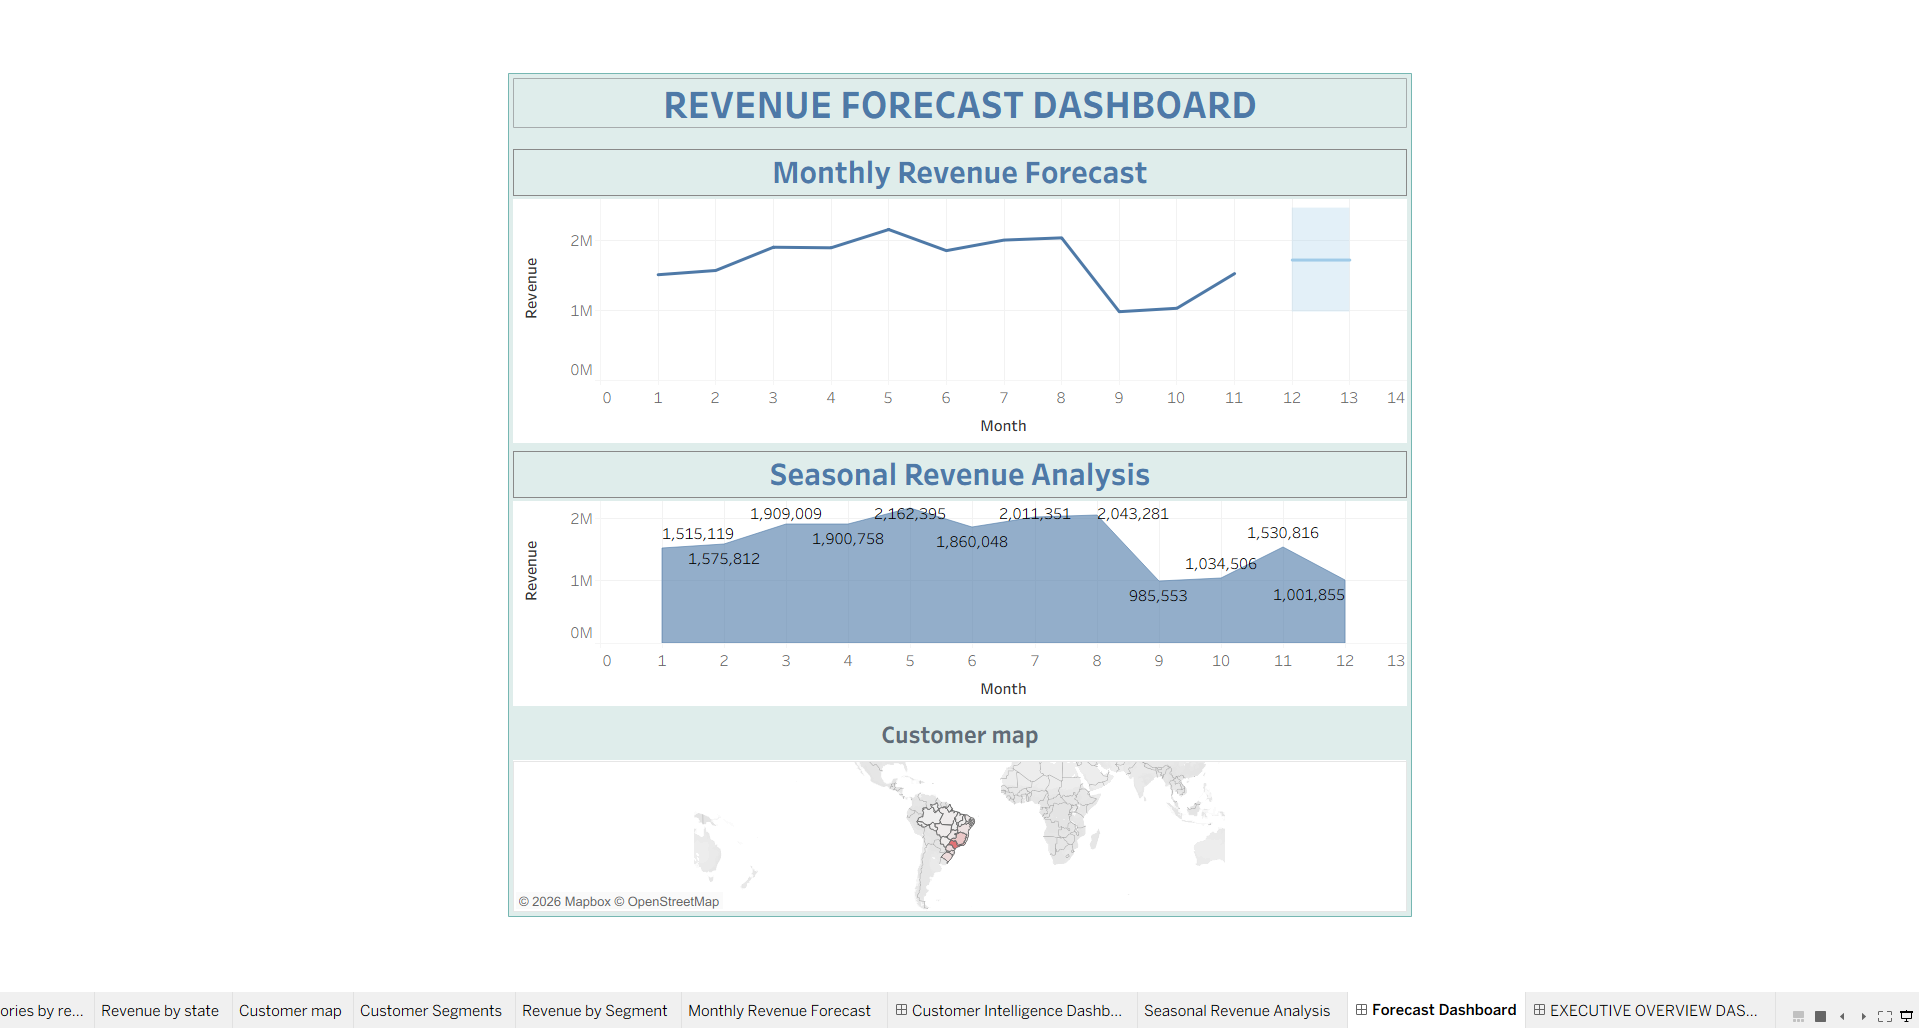

This screenshot's page, from the dashboard's own definition file:
{"tool":"tableau","page":{"name":"Forecast Dashboard","canvas":[1000,1000],"units":"permille","ordinal":2},"visuals":[{"type":"text","box":[9.8,11.2,980.4,72.3]},{"type":"worksheet","title":"Monthly Revenue Forecast","mark":"Automatic","rows":["Revenue"],"cols":["Month"],"box":[9.8,93.3,980.4,350.6]},{"type":"worksheet","title":"Seasonal Revenue Analysis","mark":"Area","rows":["Revenue"],"cols":["Month"],"box":[9.8,443.9,980.4,305.5]},{"type":"worksheet","title":"Customer map","mark":"Multipolygon","box":[9.8,749.4,980.4,239.4]}]}

Visuals, with their boxes on the dashboard's canvas, which has no fixed pixel size, in thousandths of its width and height (x1, y1, x2, y2). These are canvas units, not pixel positions in the 1919x1028 screenshot, which may show the page scaled, cropped or inside an application window:
text: detection(10, 11, 990, 84)
"Monthly Revenue Forecast" worksheet: detection(10, 93, 990, 444)
"Seasonal Revenue Analysis" worksheet (Area marks): detection(10, 444, 990, 749)
"Customer map" worksheet (Multipolygon marks): detection(10, 749, 990, 989)
